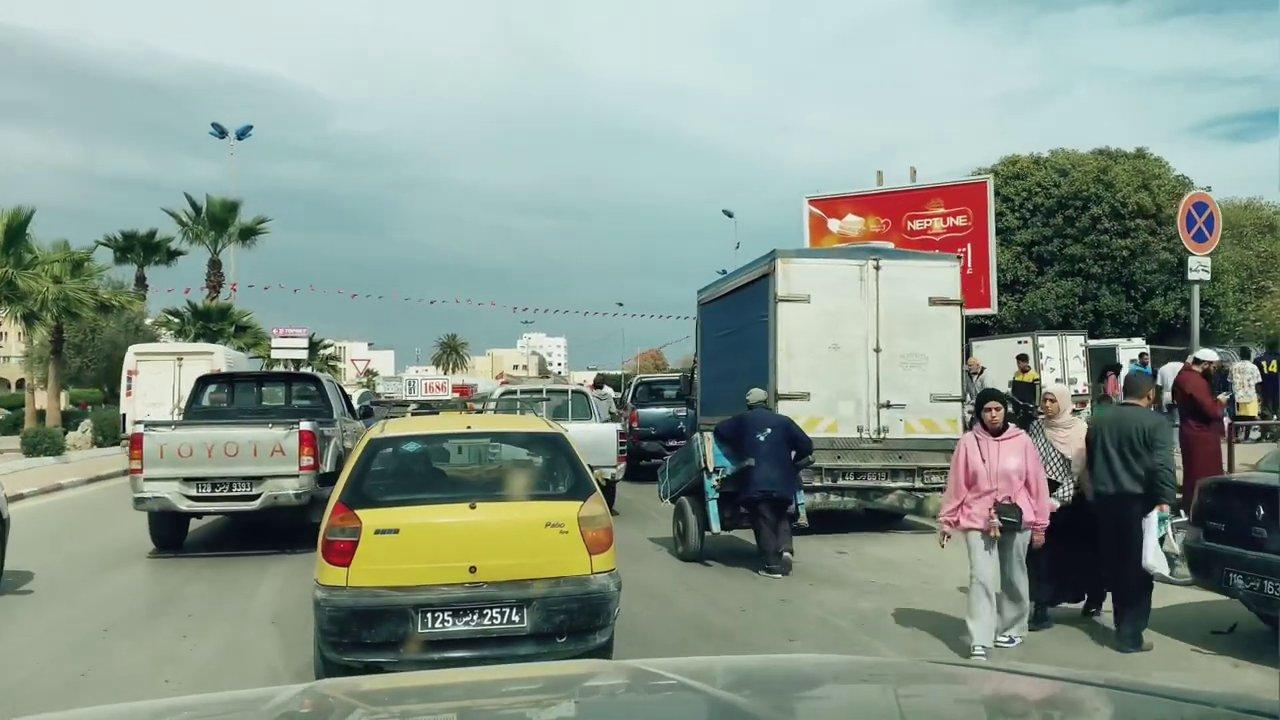no stopping: (1178, 187, 1225, 256)
